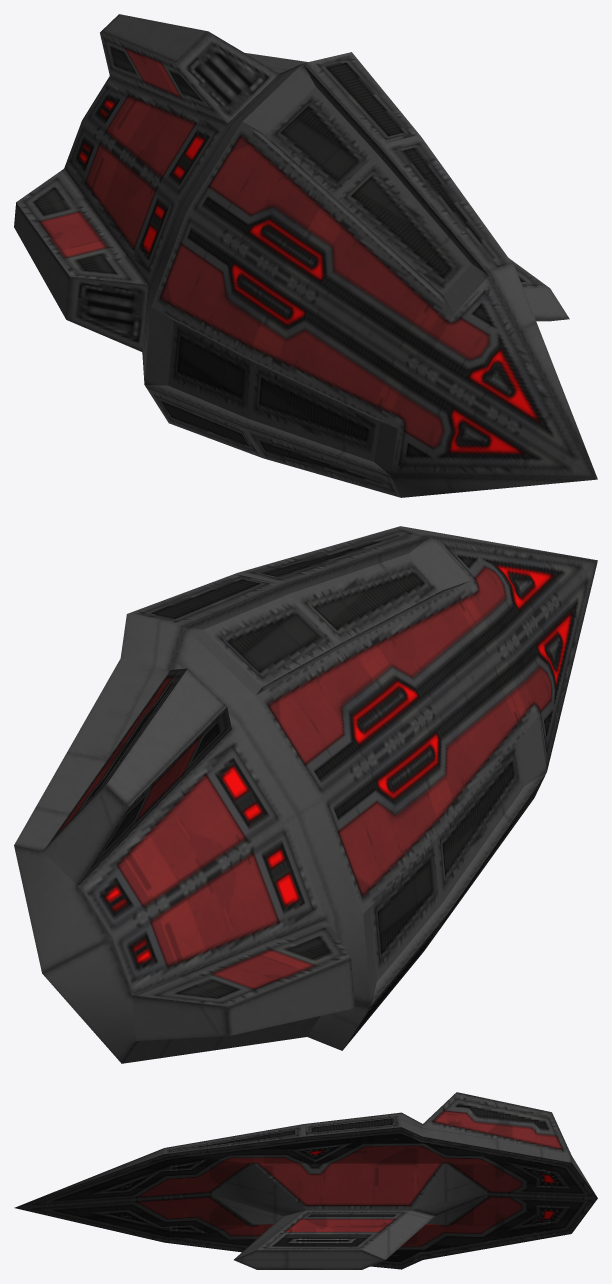
The model's file is BFP_WingShield_Right.FBX.
3 views of the same model, one above another, from view 1: azimuth 30°, elevation 25°; view 2: azimuth 150°, elevation 25°; view 3: azimuth 270°, elevation 25° (orthographic). The views are drawn at different scales.
Parts seen in each view (by area): view 1: BFP_WingShield_Right; view 2: BFP_WingShield_Right; view 3: BFP_WingShield_Right.
Boxes of the visible parts, x1,y1,x2,y2 form: BFP_WingShield_Right: (14, 14, 597, 497); BFP_WingShield_Right: (14, 526, 597, 1063); BFP_WingShield_Right: (14, 1092, 597, 1269).
Size of the model in its own units: 1010 by 1026 by 2682.
Materials: 1 (1 with a texture image).
